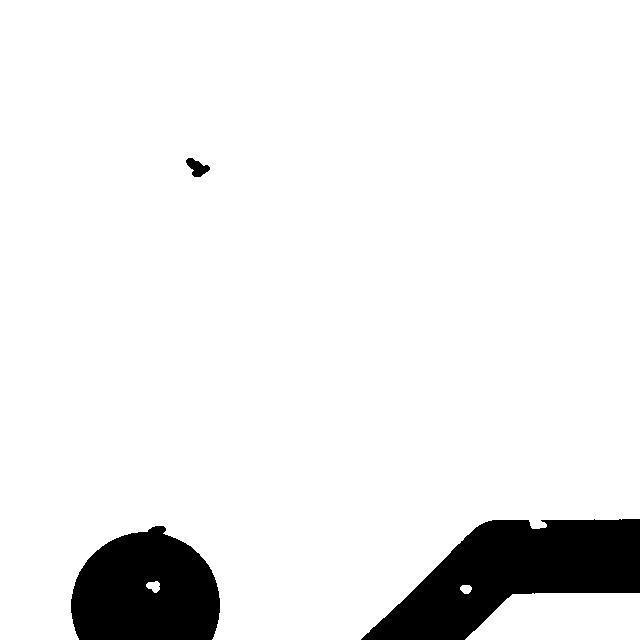copper: (179, 151, 216, 183)
mousebite: (521, 510, 554, 536)
pin-hole: (139, 574, 166, 599), (453, 578, 478, 600)
spur: (140, 518, 173, 544)
